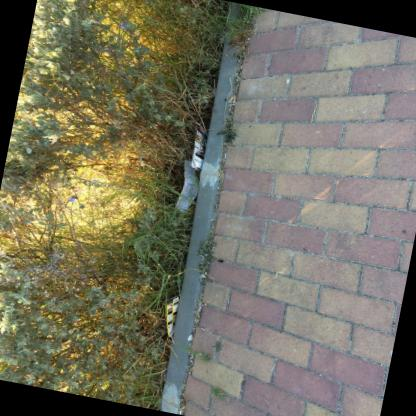Paper: (174, 158, 198, 211), (191, 121, 208, 171), (166, 291, 180, 342), (227, 95, 233, 102), (180, 404, 185, 409), (232, 95, 235, 102)
